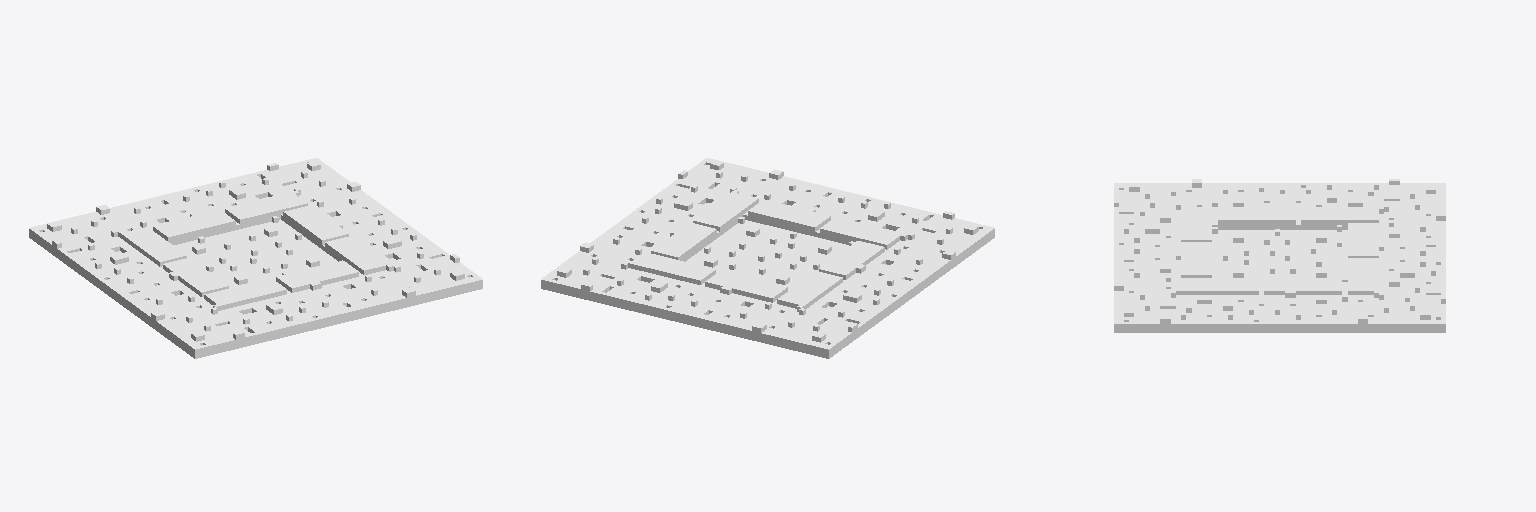
Rendered from Asphalt_2.obj.
3 renders of one model, left to right at view 1: azimuth 30°, elevation 25°; view 2: azimuth 150°, elevation 25°; view 3: azimuth 270°, elevation 25°, orthographic.
Visible parts, largest first — view 1: Asphalt_2; view 2: Asphalt_2; view 3: Asphalt_2.
Boxes of the visible parts, x1,y1,x2,y2 form: Asphalt_2: [29, 158, 482, 358]; Asphalt_2: [541, 158, 994, 358]; Asphalt_2: [1114, 179, 1445, 332].
Bounding box in the file's own units: 1 × 0.0469 × 1.